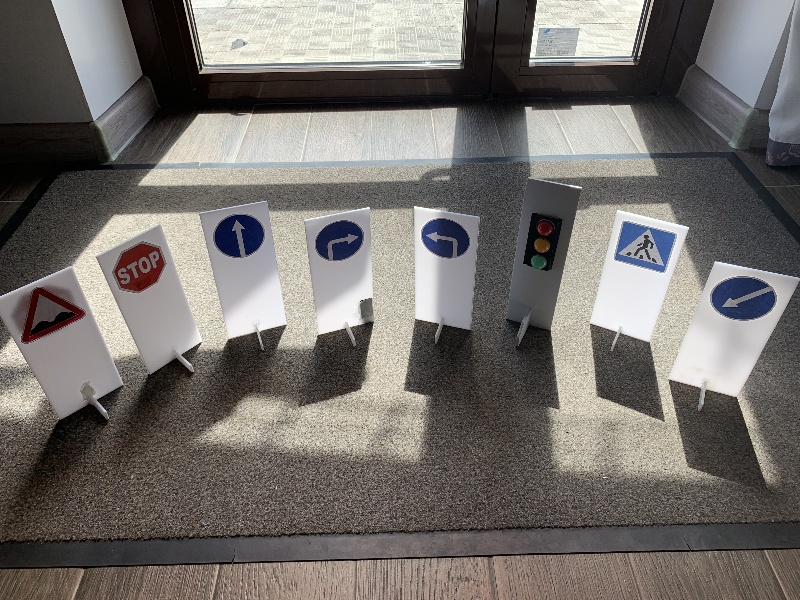Left: (419, 215, 472, 261)
Nerov: (22, 287, 85, 342)
Right: (314, 219, 364, 261)
Stop: (115, 242, 165, 292)
forw: (215, 214, 264, 257)
pesh: (612, 221, 676, 276)
prep: (712, 275, 776, 323)
